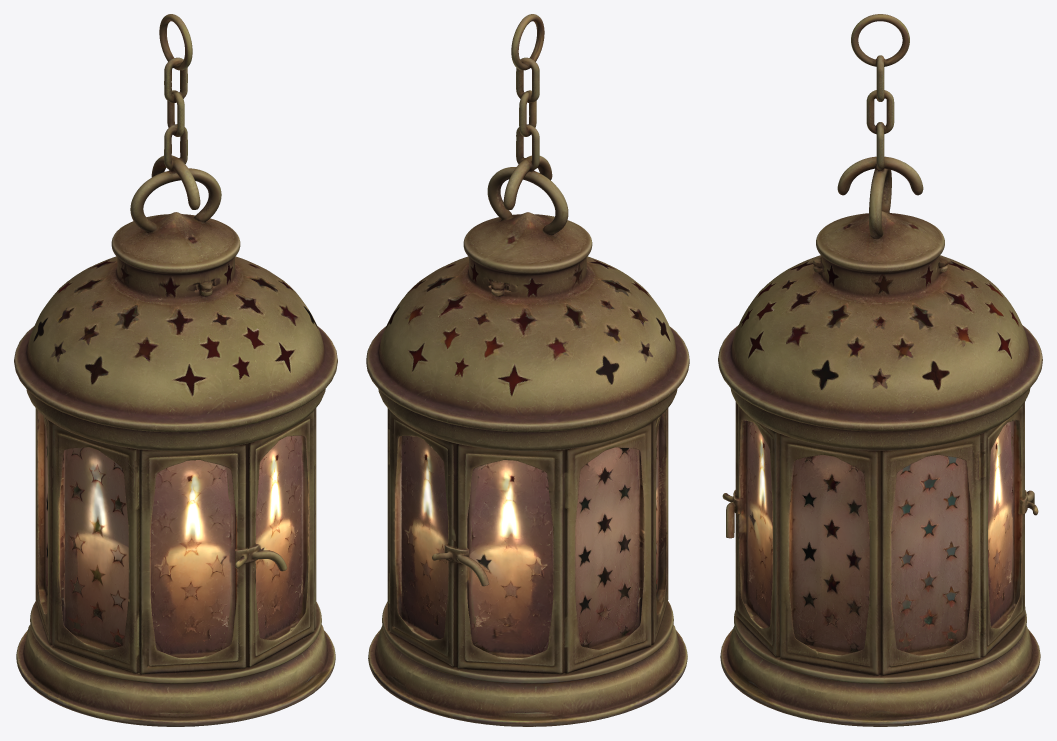
Rendered from Meshy_AI_model.fbx.
3 renders of one model, left to right at view 1: azimuth 30°, elevation 25°; view 2: azimuth 150°, elevation 25°; view 3: azimuth 270°, elevation 25°, orthographic.
Visible parts, largest first — view 1: mesh_node; view 2: mesh_node; view 3: mesh_node.
Boxes of the visible parts, x1,y1,x2,y2 form: mesh_node: (14, 14, 337, 726); mesh_node: (366, 14, 689, 726); mesh_node: (718, 14, 1042, 726).
Bounding box in the file's own units: 86.59 × 190 × 86.6.
Materials: 1 (1 with a texture image).
